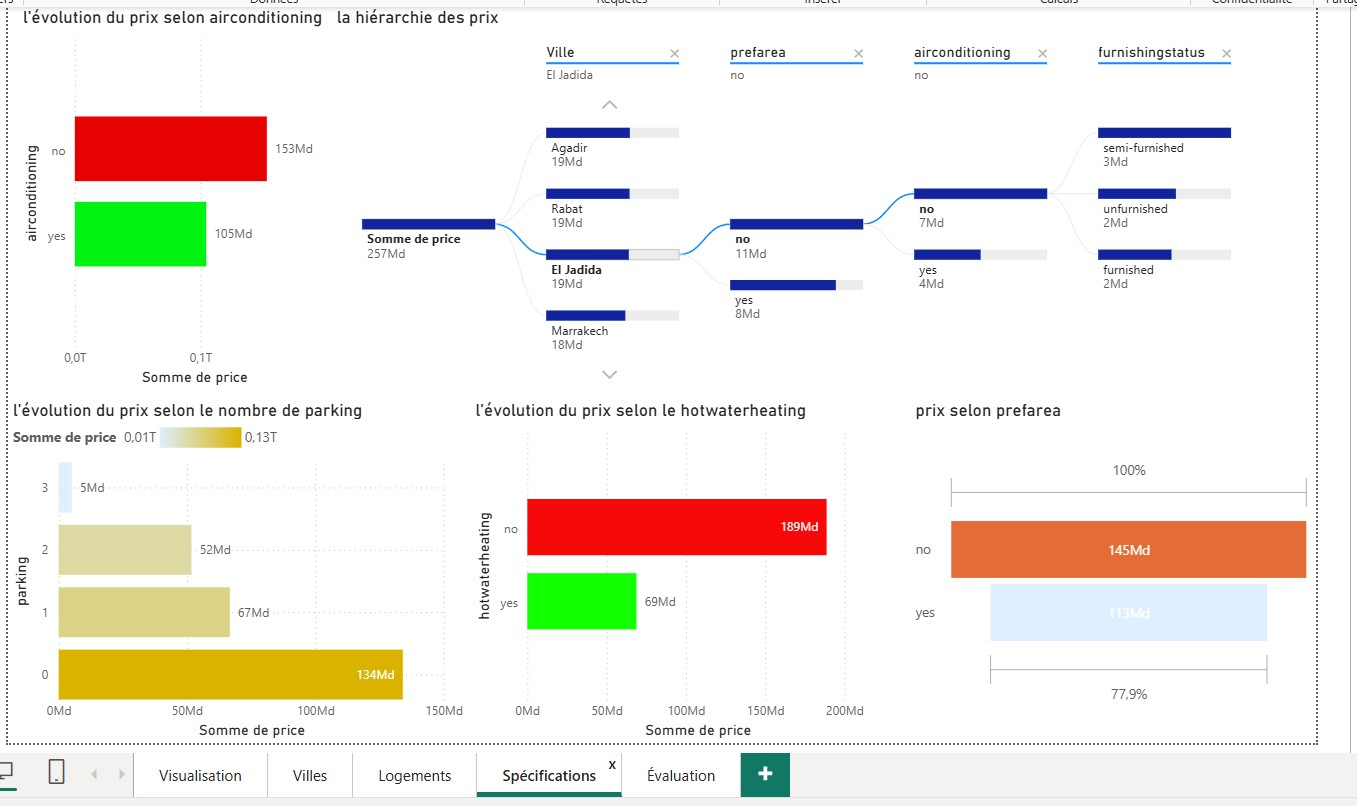

This screenshot's page, from the dashboard's own definition file:
{"tool":"powerbi","page":{"name":"Spécifications","canvas":[1280,720],"ordinal":3},"visuals":[{"type":"clusteredBarChart","title":"l''évolution du prix selon airconditioning","fields":{"Category":["Dim_Standing.airconditioning"],"Y":["Sum(Fact_Housing.price)"]},"box":[9.8,0,306.9,375.4],"z":0},{"type":"clusteredBarChart","title":"l''évolution du prix selon le nombre de  parking","fields":{"Category":["Dim_Logement.parking"],"Y":["Sum(Fact_Housing.price)"]},"box":[0,384,452.4,336.3],"z":1000},{"type":"clusteredBarChart","title":"l''évolution du prix selon le hotwaterheating","fields":{"Category":["Dim_Standing.hotwaterheating"],"Y":["Sum(Fact_Housing.price)"]},"box":[452.4,384,414.5,336.3],"z":2000},{"type":"decompositionTreeVisual","title":"la hiérarchie des prix","fields":{"Analyze":["Sum(Fact_Housing.price)"],"ExplainBy":["Dim_Ville.Ville","Dim_Standing.prefarea","Dim_Standing.airconditioning","Dim_Logement.furnishingstatus"]},"box":[316.7,0,963.6,384],"z":3000},{"type":"funnel","title":"prix selon prefarea","fields":{"Category":["Dim_Standing.prefarea"],"Y":["Sum(Fact_Housing.price)"]},"box":[882.9,384,397.4,336.3],"z":4000}]}

Visuals, with their boxes on the page's 1280x720 design canvas (x1, y1, x2, y2). These are canvas units, not pixel positions in the 1357x806 screenshot, which may show the page scaled, cropped or inside an application window:
"l''évolution du prix selon airconditioning" clusteredBarChart: <box>10,0,317,375</box>
"l''évolution du prix selon le nombre de  parking" clusteredBarChart: <box>0,384,452,720</box>
"l''évolution du prix selon le hotwaterheating" clusteredBarChart: <box>452,384,867,720</box>
"la hiérarchie des prix" decompositionTreeVisual: <box>317,0,1280,384</box>
"prix selon prefarea" funnel: <box>883,384,1280,720</box>
